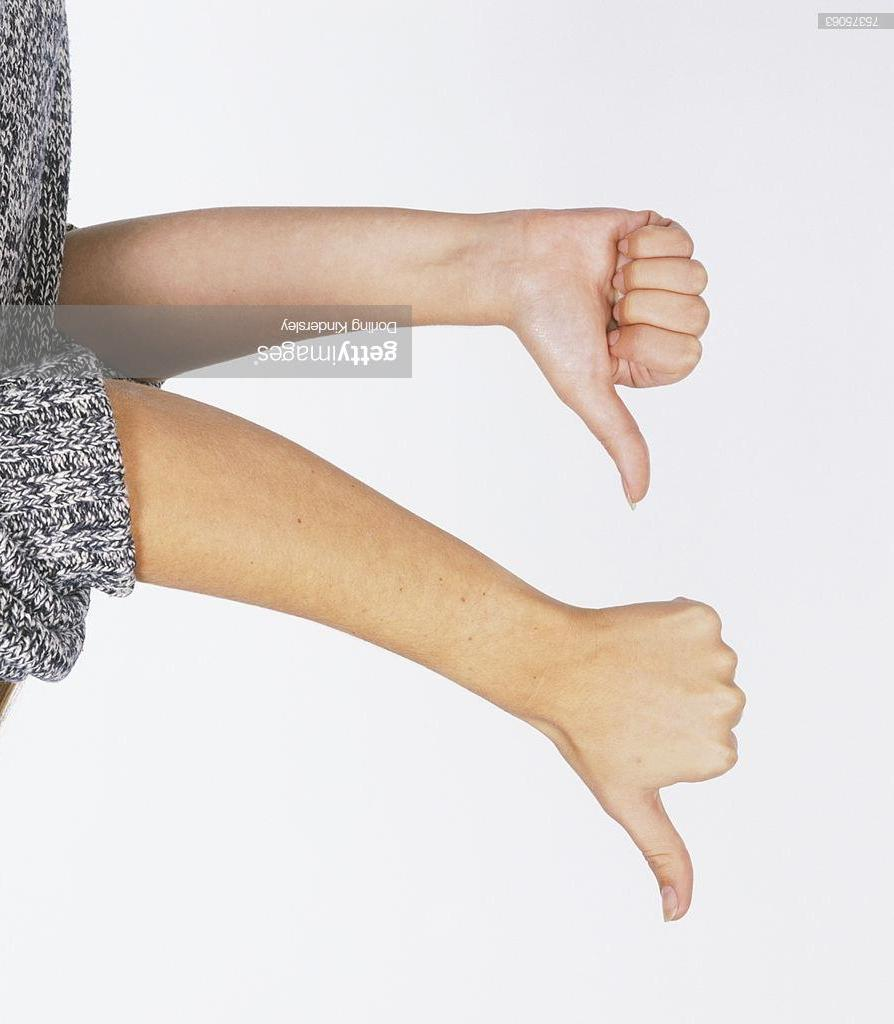thumbsdown: (603, 602, 747, 924), (567, 208, 710, 510)
